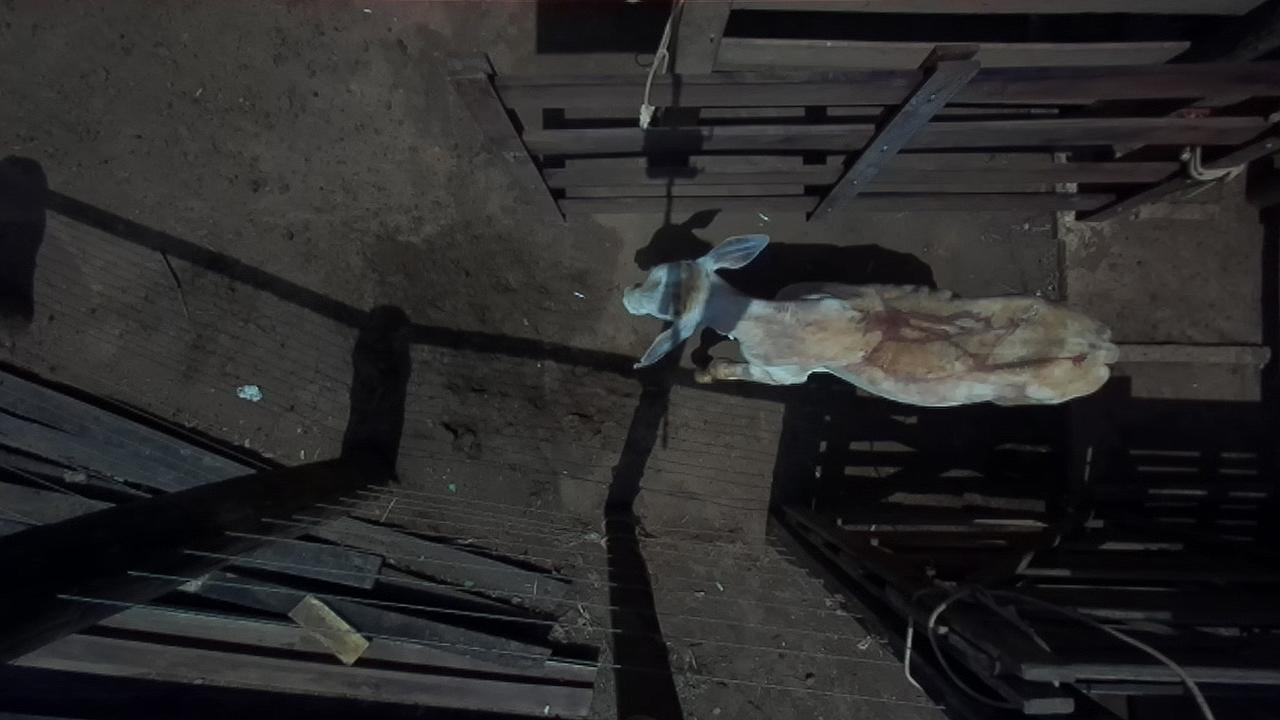cattle: (621, 232, 1120, 408)
